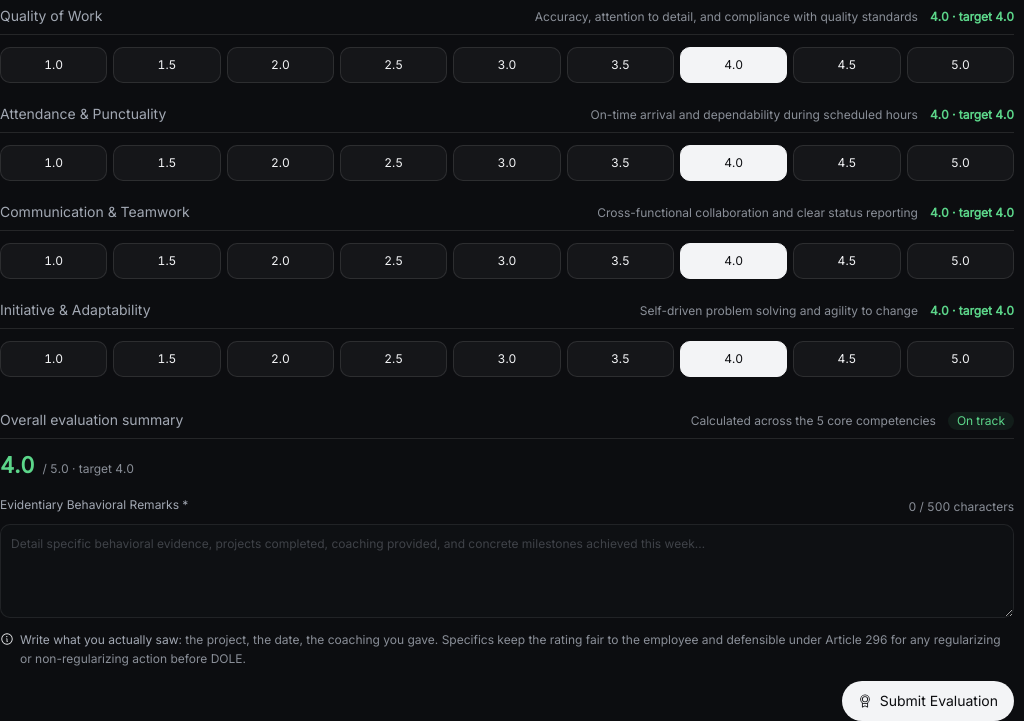
RateEmployee › records an evaluation only after the confirm step
(page scrolled)
Step 1. Replace the text in the text box labelled "Evidentiary Behavioral Remarks *" with "Consistently meets all assigned deadlines this week." → coordinates (507, 571), box x1=0 y1=524 x2=1014 y2=618
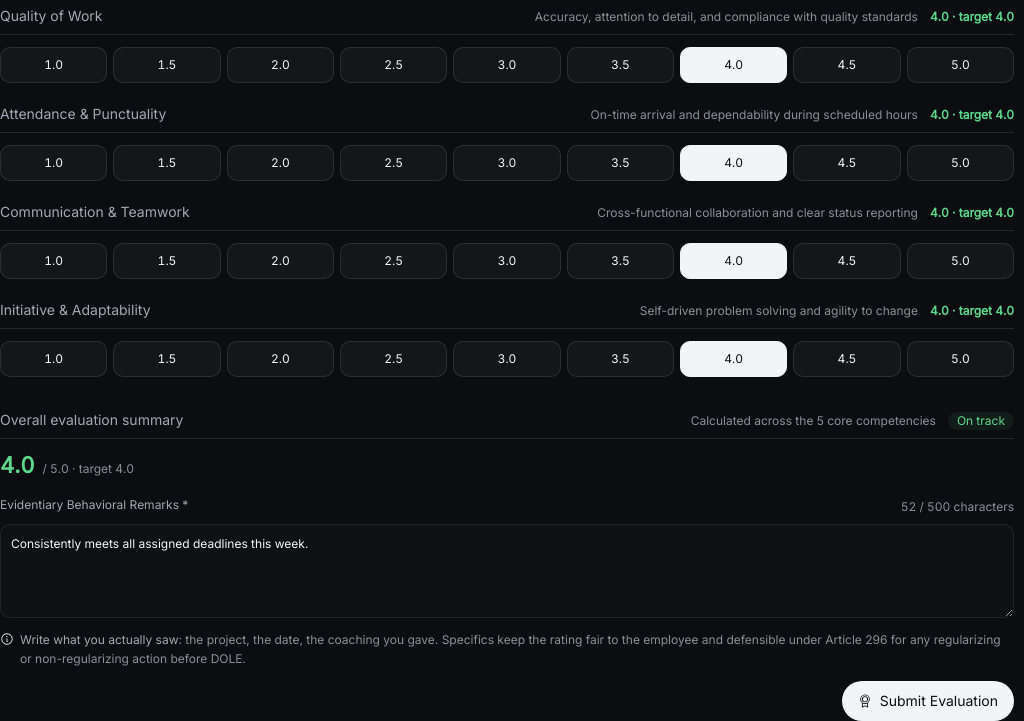
Step 2. Click the button "Submit Evaluation" → coordinates (928, 701), box x1=842 y1=681 x2=1014 y2=720
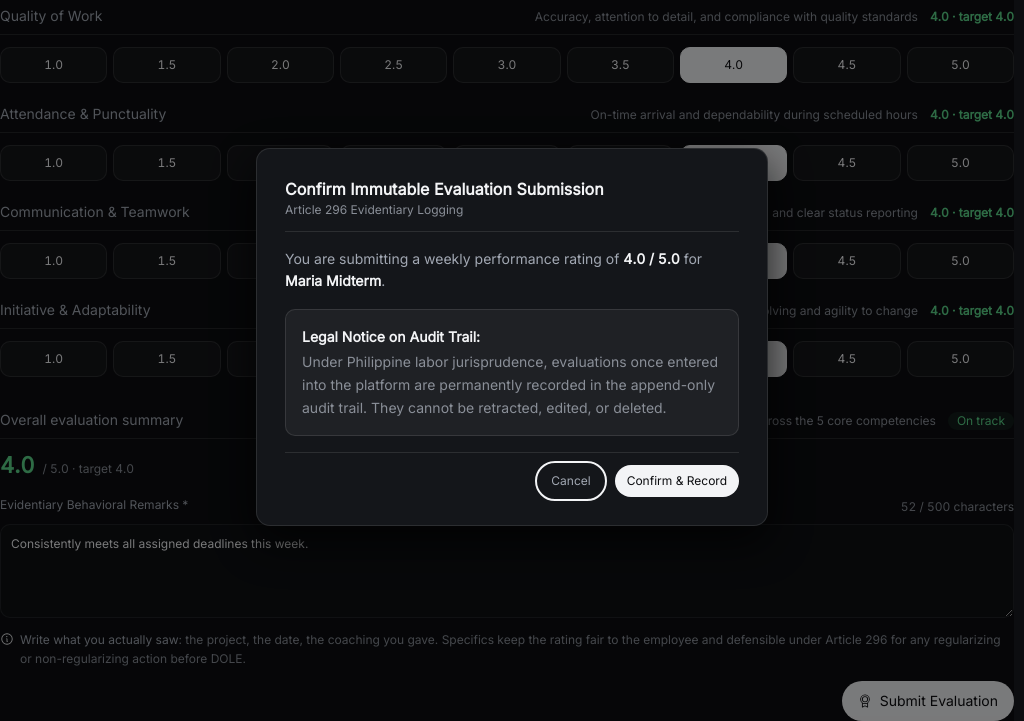
Now the heading "Confirm Immutable Evaluation Submission" is shown, box x1=285 y1=179 x2=604 y2=199
Step 3. Click the button "Confirm & Record" → coordinates (677, 481), box x1=615 y1=465 x2=739 y2=497
(page scrolled)
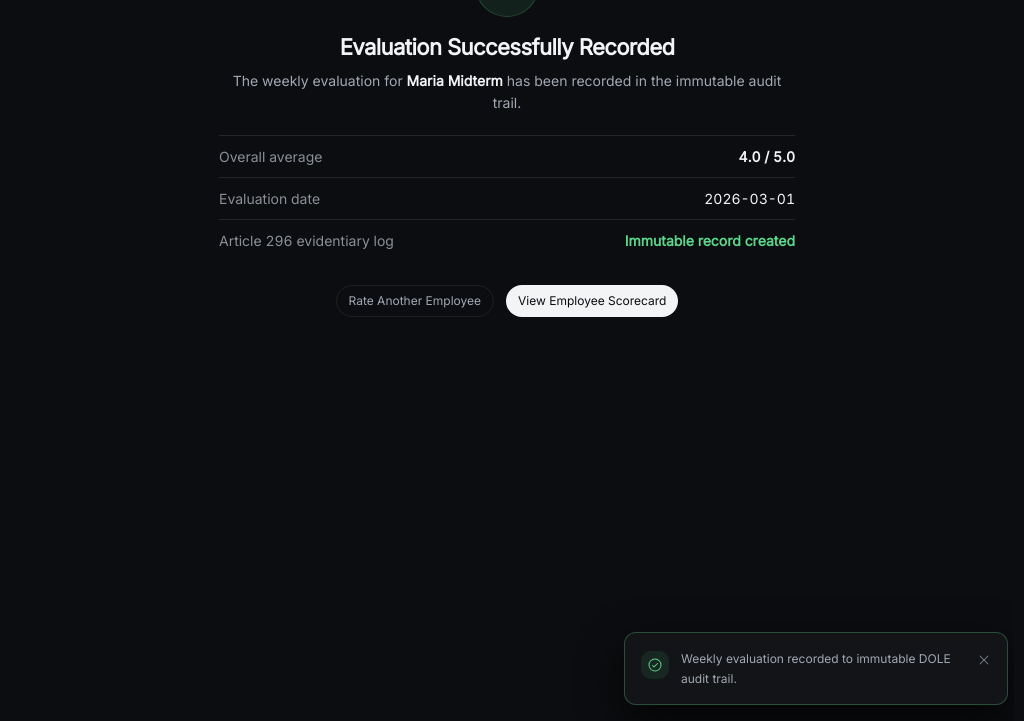
Now the heading "Evaluation Successfully Recorded" is shown, box x1=340 y1=34 x2=674 y2=60
